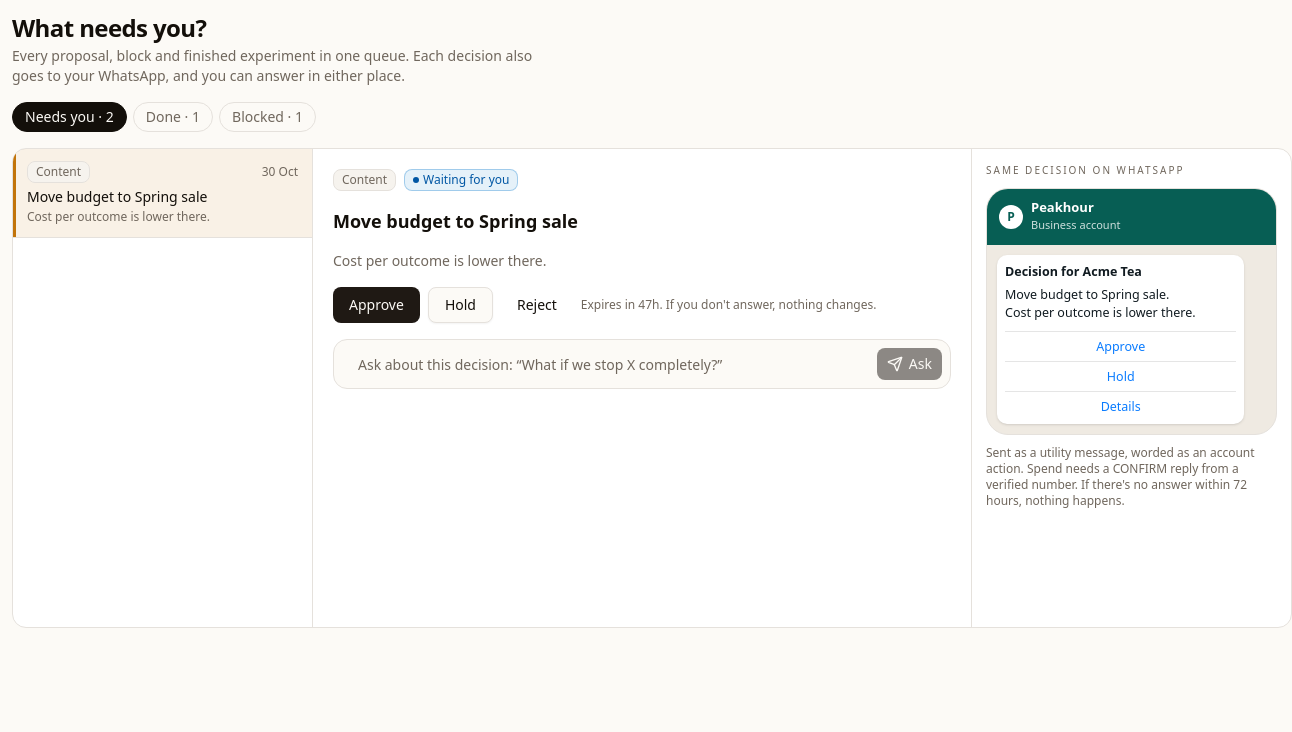
Test: answering › ★a 409 NEEDS_REAUTH renders its action
The width and height of the screenshot is (1292, 732).
Click the button "Approve": (376, 305) [333,287,420,323]
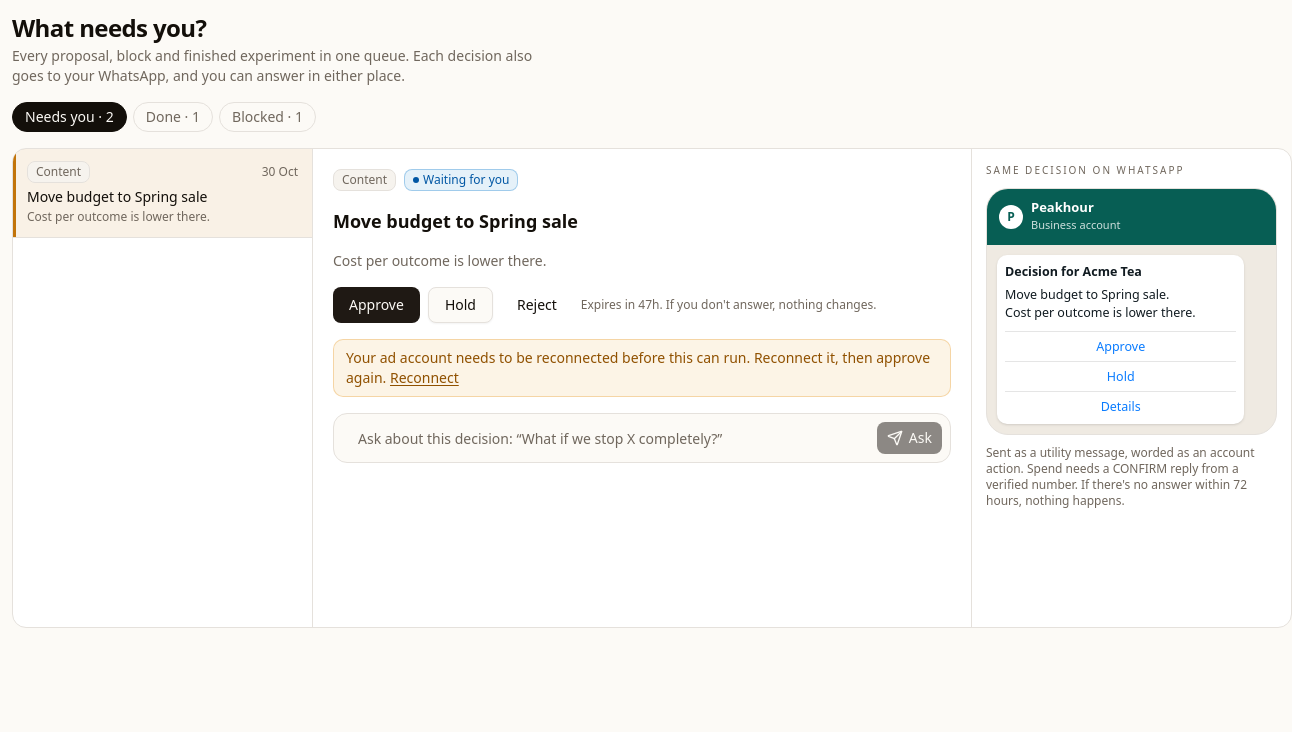
Result: the message is shown at [333,339,951,397]
Result: the message shows "needs to be reconnected" at [346,348,930,387]
Result: the link "Reconnect" is shown at [390,368,459,387]
